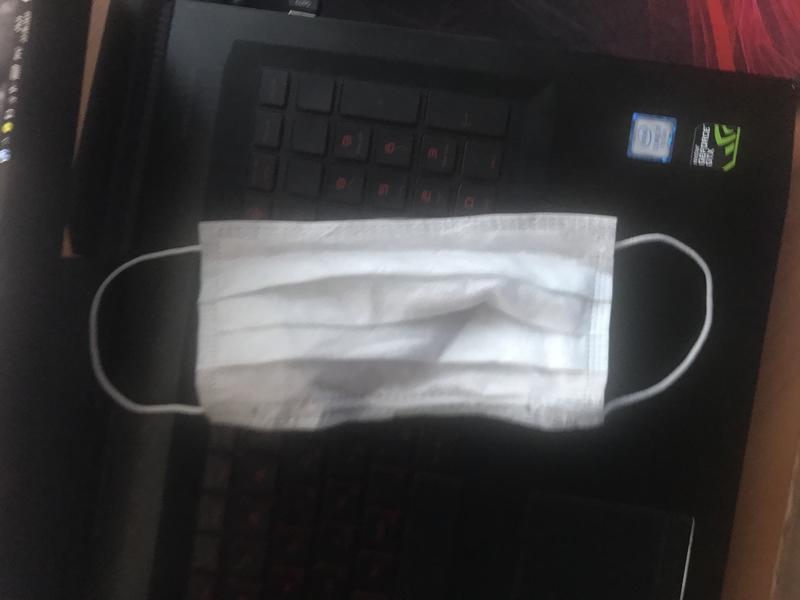medical_mask: (90, 214, 711, 433)
